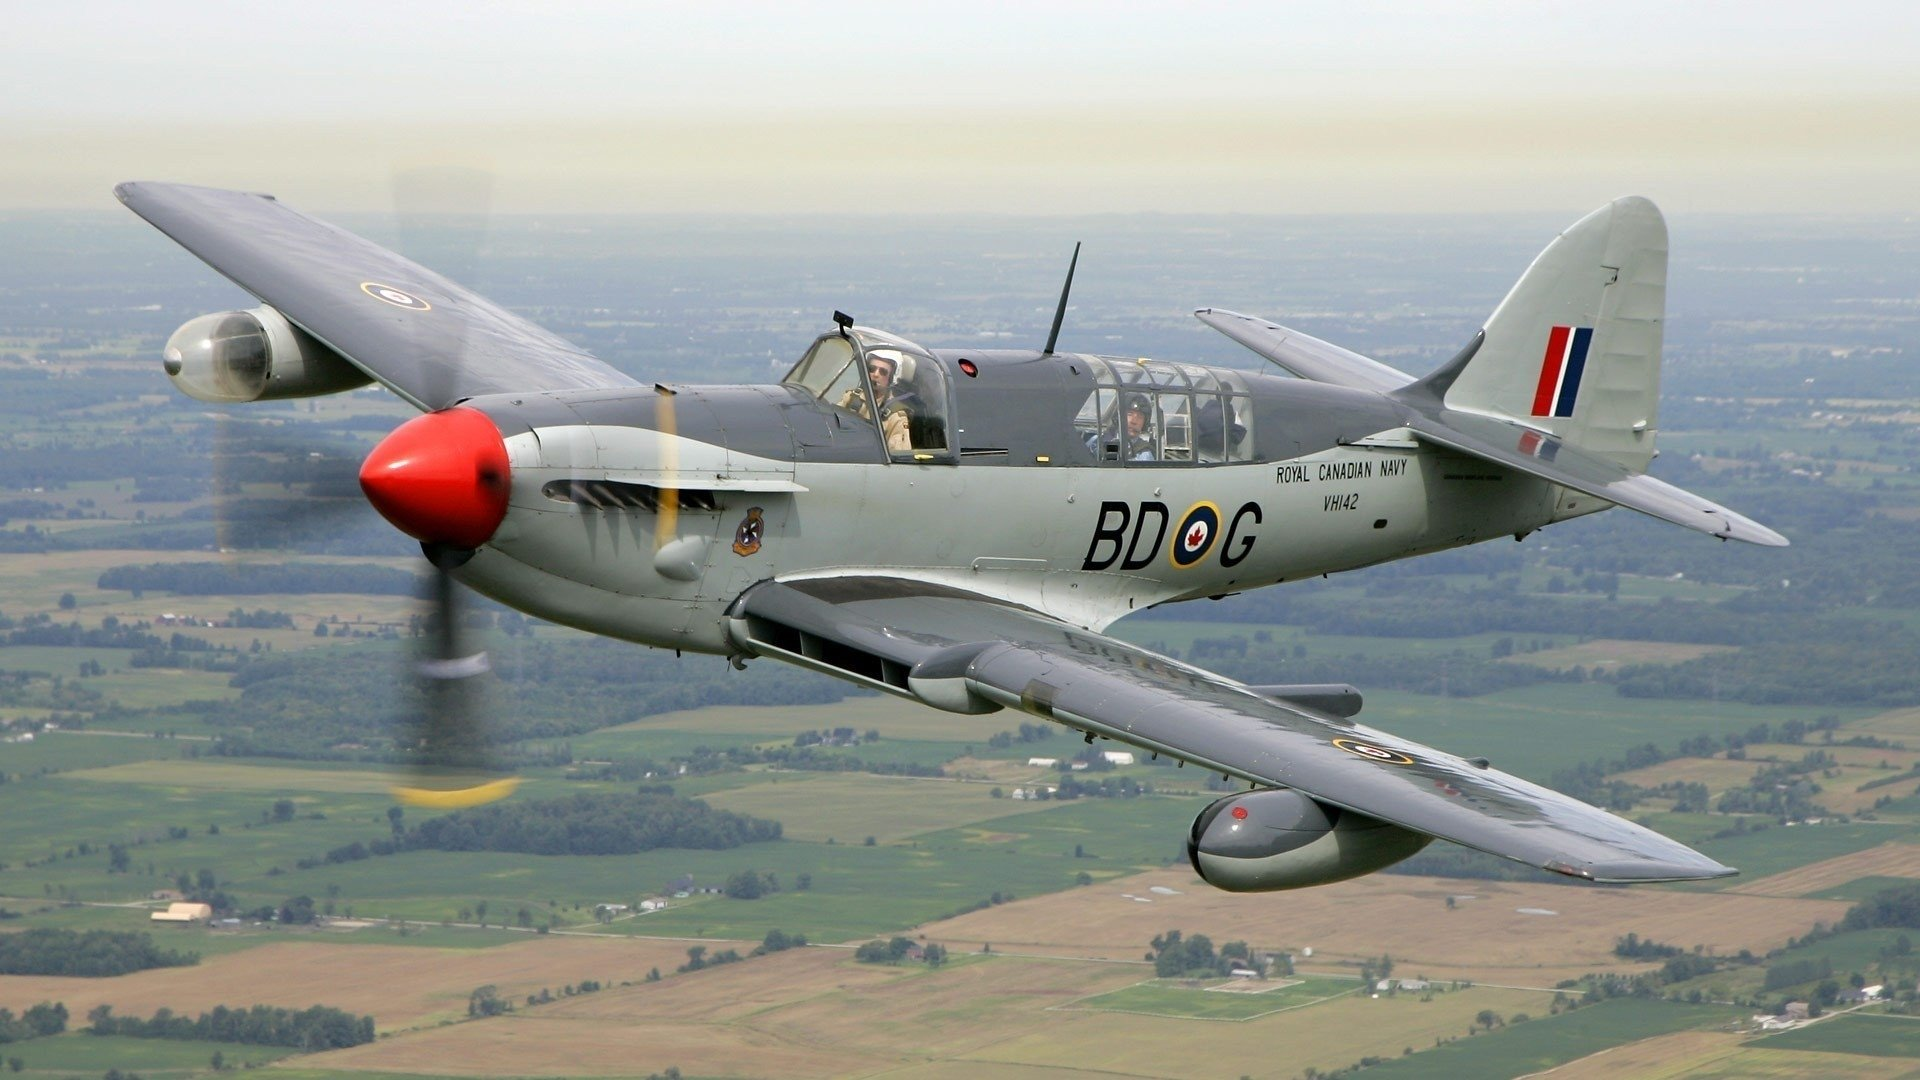Aeronef_militaire: (82, 133, 1824, 964)
